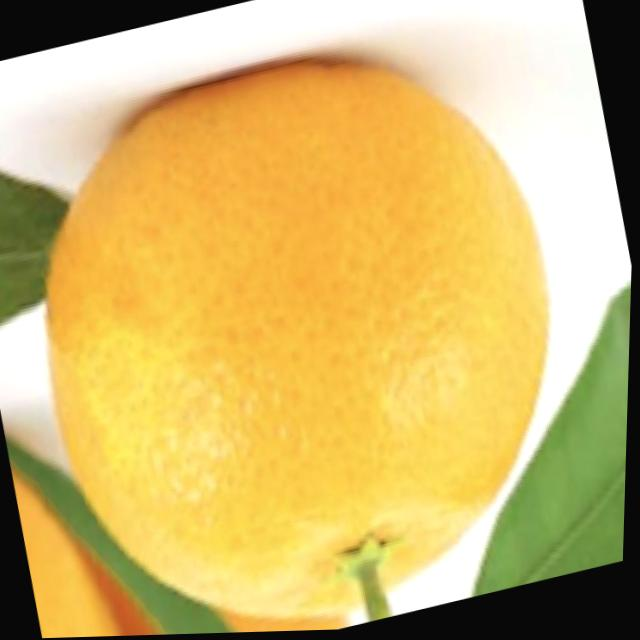Orange: (0, 12, 614, 640)
